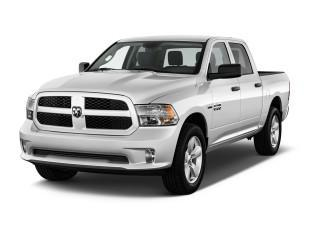ram: (70, 102, 86, 120)
